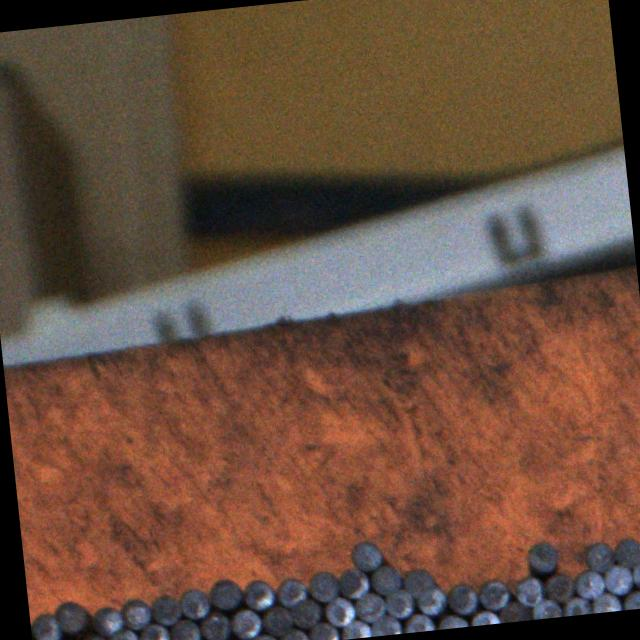tool: (524, 538, 561, 574), (305, 568, 340, 604), (87, 602, 122, 636), (240, 576, 275, 610), (322, 594, 358, 627), (348, 538, 384, 571), (402, 564, 438, 597), (228, 606, 262, 640), (148, 592, 182, 626), (336, 566, 370, 600), (258, 602, 294, 634), (368, 562, 404, 594), (601, 562, 634, 596), (209, 575, 241, 610), (414, 584, 448, 616), (178, 586, 212, 618), (274, 574, 306, 608), (583, 538, 615, 572), (119, 597, 151, 630), (476, 577, 508, 610), (384, 586, 416, 618), (54, 600, 86, 632), (446, 582, 478, 614), (513, 574, 544, 606), (542, 570, 573, 602), (572, 567, 604, 598), (198, 610, 231, 640), (290, 596, 323, 626), (354, 592, 386, 622), (611, 535, 640, 567), (29, 611, 60, 640), (497, 599, 530, 623), (167, 618, 202, 640), (370, 612, 402, 636), (530, 596, 562, 620), (402, 611, 436, 633), (339, 618, 372, 640), (590, 590, 621, 613), (560, 594, 591, 616), (305, 620, 338, 640), (136, 621, 169, 640), (434, 612, 468, 630), (468, 609, 500, 626), (106, 625, 139, 640), (621, 588, 640, 610), (277, 627, 309, 640), (630, 557, 640, 590), (76, 631, 110, 640), (248, 632, 278, 640)
